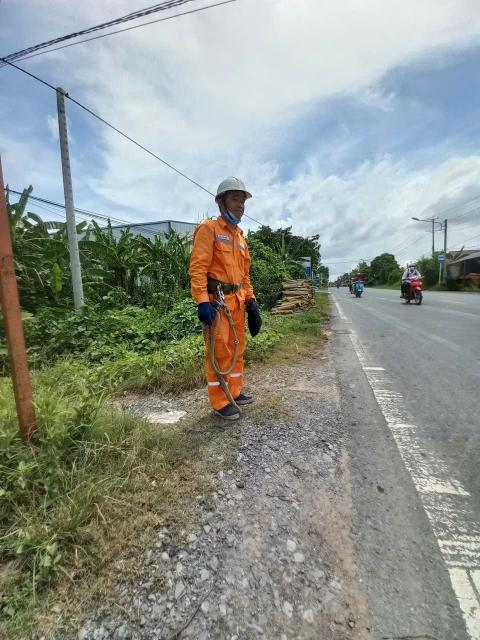gloves: (238, 302, 268, 338), (189, 299, 218, 327)
harness: (204, 268, 247, 301)
helmet: (211, 171, 258, 200)
shoes: (213, 396, 244, 422), (229, 387, 256, 406)
